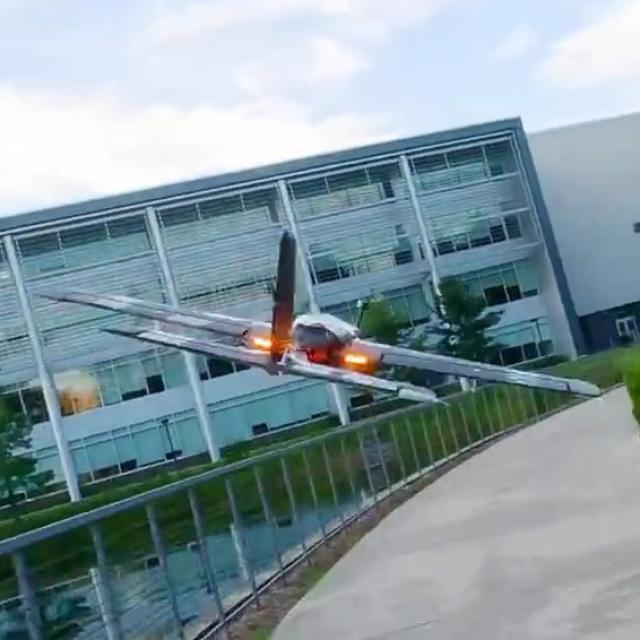iha: (35, 235, 606, 406)
